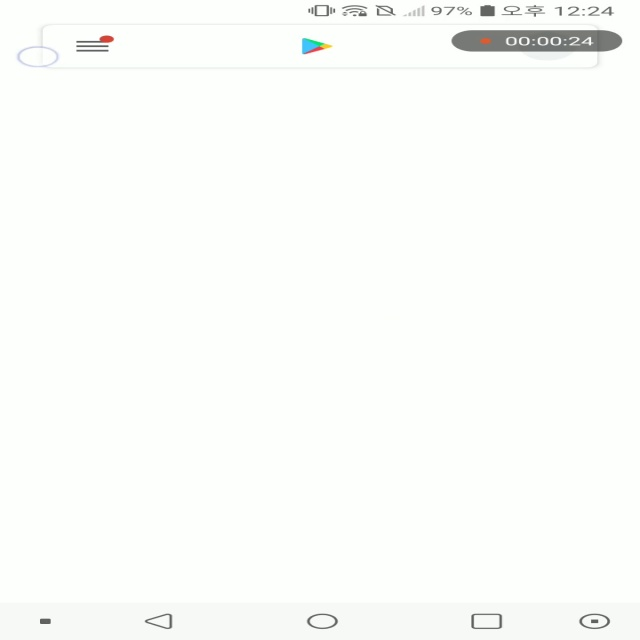Cursor: (16, 47, 61, 69)
